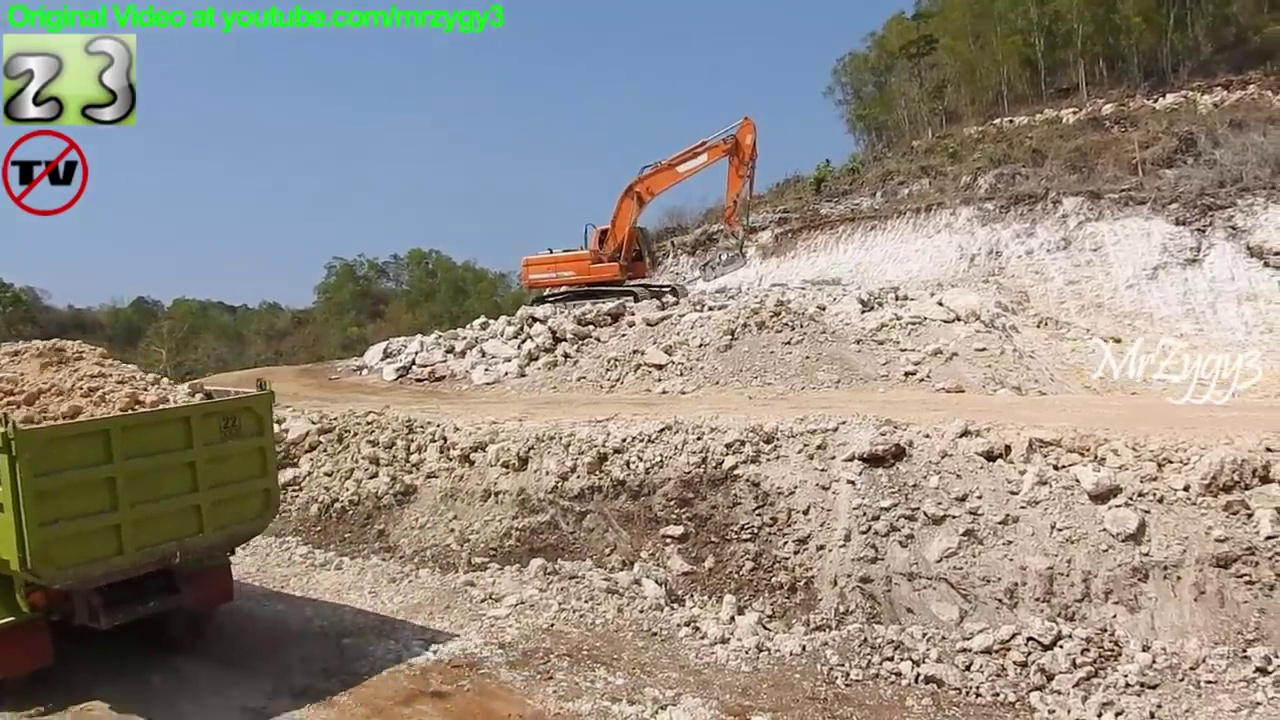excavator breaker: (517, 114, 767, 316)
truck: (1, 364, 288, 709)
